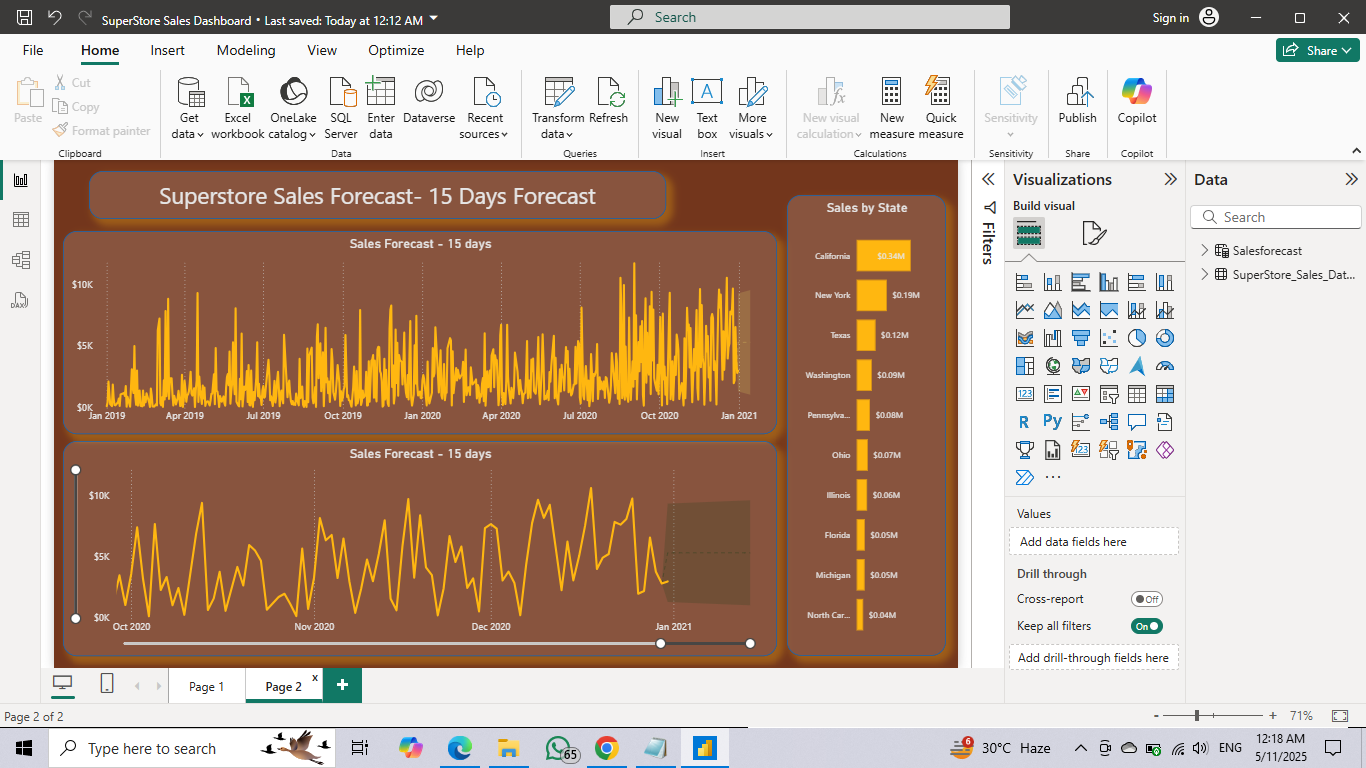

What the dashboard file says about the page in this screenshot:
{"tool":"powerbi","page":{"name":"Page 2","canvas":[1280,720],"ordinal":1},"visuals":[{"type":"lineChart","title":"Sales Forecast - 15 days","fields":{"Y":["Sum(SuperStore_Sales_Dataset.Sales)"],"Category":["SuperStore_Sales_Dataset.Order Date"]},"box":[12.8,100.6,1012,287.7],"z":0},{"type":"lineChart","title":"Sales Forecast - 15 days","fields":{"Y":["Sum(SuperStore_Sales_Dataset.Sales)"],"Category":["SuperStore_Sales_Dataset.Order Date"]},"box":[12.8,398.3,1012,304.7],"z":1000},{"type":"textbox","box":[49.6,15.6,817.8,68],"z":2000},{"type":"barChart","title":" Sales by State","fields":{"Y":["Sum(SuperStore_Sales_Dataset.Sales)"],"Category":["SuperStore_Sales_Dataset.State"]},"box":[1038.9,49.6,225.4,653.4],"z":3000}]}

Visuals, with their boxes on the page's 1280x720 design canvas (x1, y1, x2, y2). These are canvas units, not pixel positions in the 1366x768 screenshot, which may show the page scaled, cropped or inside an application window:
"Sales Forecast - 15 days" lineChart: [13,101,1025,388]
"Sales Forecast - 15 days" lineChart: [13,398,1025,703]
textbox: [50,16,867,84]
" Sales by State" barChart: [1039,50,1264,703]
